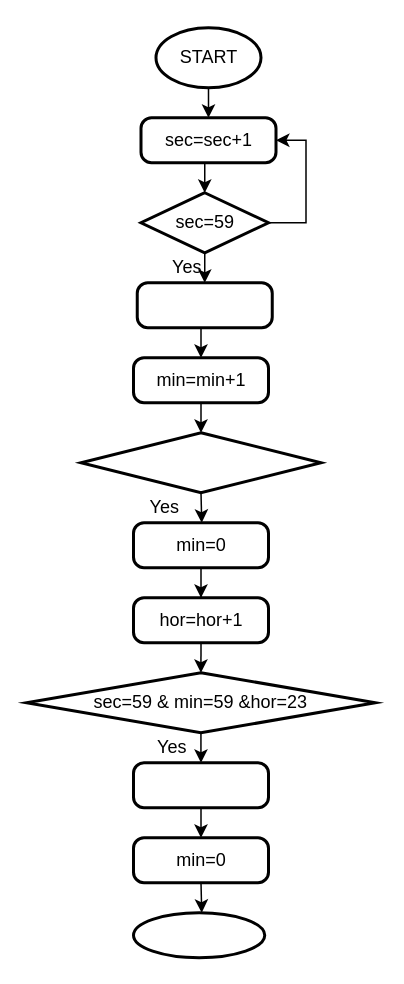
Some shapes in this 404 by 984 pixel diagram are drawn without their labels. The box of each missing label's shape, as (x1, y1, x2, y2) in pixels:
END: (131, 910, 266, 958)
hor=0: (131, 760, 269, 808)
sec=0: (135, 280, 273, 328)
sec=59 & min=59: (79, 430, 322, 494)
